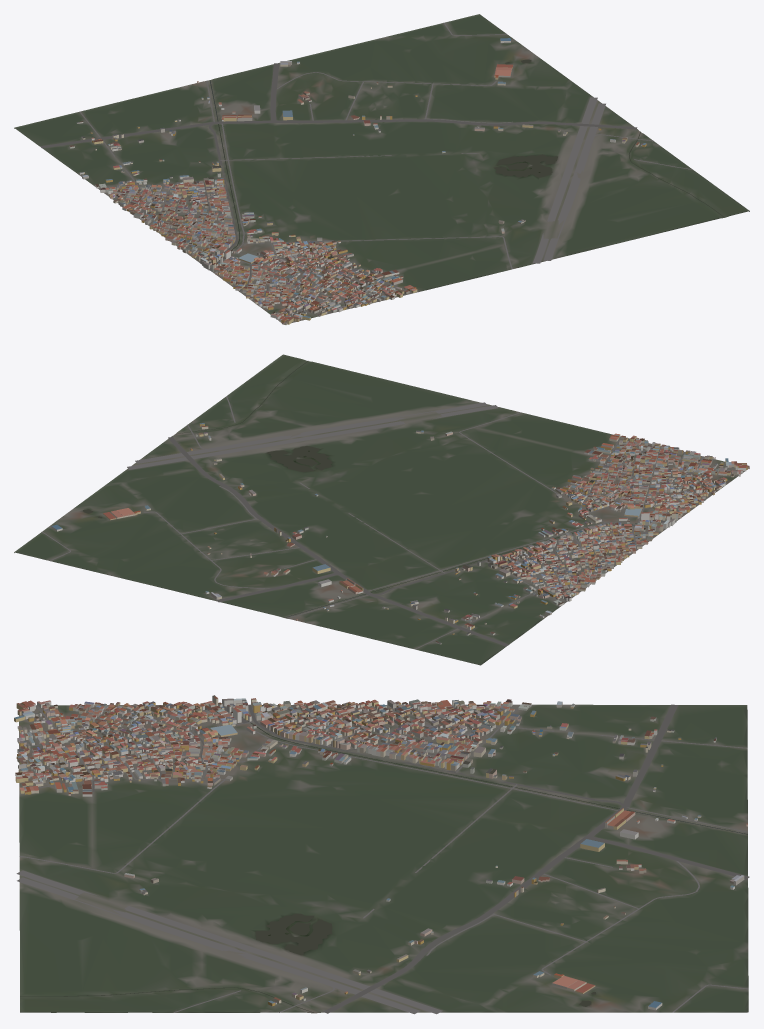
3 renders of one model, top to bottom at view 1: azimuth 30°, elevation 25°; view 2: azimuth 150°, elevation 25°; view 3: azimuth 270°, elevation 25°, orthographic. The views are drawn at different scales.
Visible parts, largest first — view 1: ground, buildings, roads, water; view 2: ground, buildings, roads, water; view 3: ground, buildings, roads, water.
Part boxes in pixels (x1=…): ground: x1=14, y1=14, x2=749, y2=323; buildings: x1=69, y1=38, x2=646, y2=324; roads: x1=40, y1=22, x2=692, y2=320; water: x1=209, y1=59, x2=724, y2=260; ground: x1=14, y1=354, x2=749, y2=665; buildings: x1=51, y1=423, x2=749, y2=644; roads: x1=42, y1=396, x2=743, y2=649; water: x1=83, y1=361, x2=636, y2=617; ground: x1=19, y1=704, x2=748, y2=1013; buildings: x1=14, y1=695, x2=747, y2=1010; roads: x1=16, y1=704, x2=749, y2=1014; water: x1=20, y1=717, x2=747, y2=1012.
Bounding box in the file's own units: 1416 × 28.45 × 1416.
